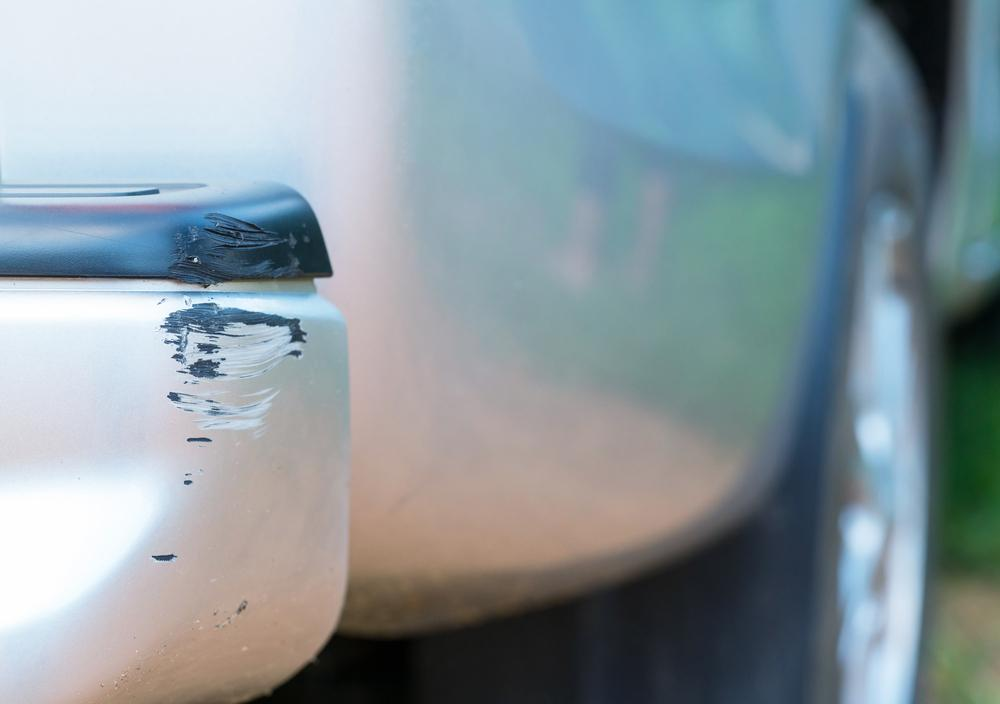scratch: (157, 208, 305, 492)
